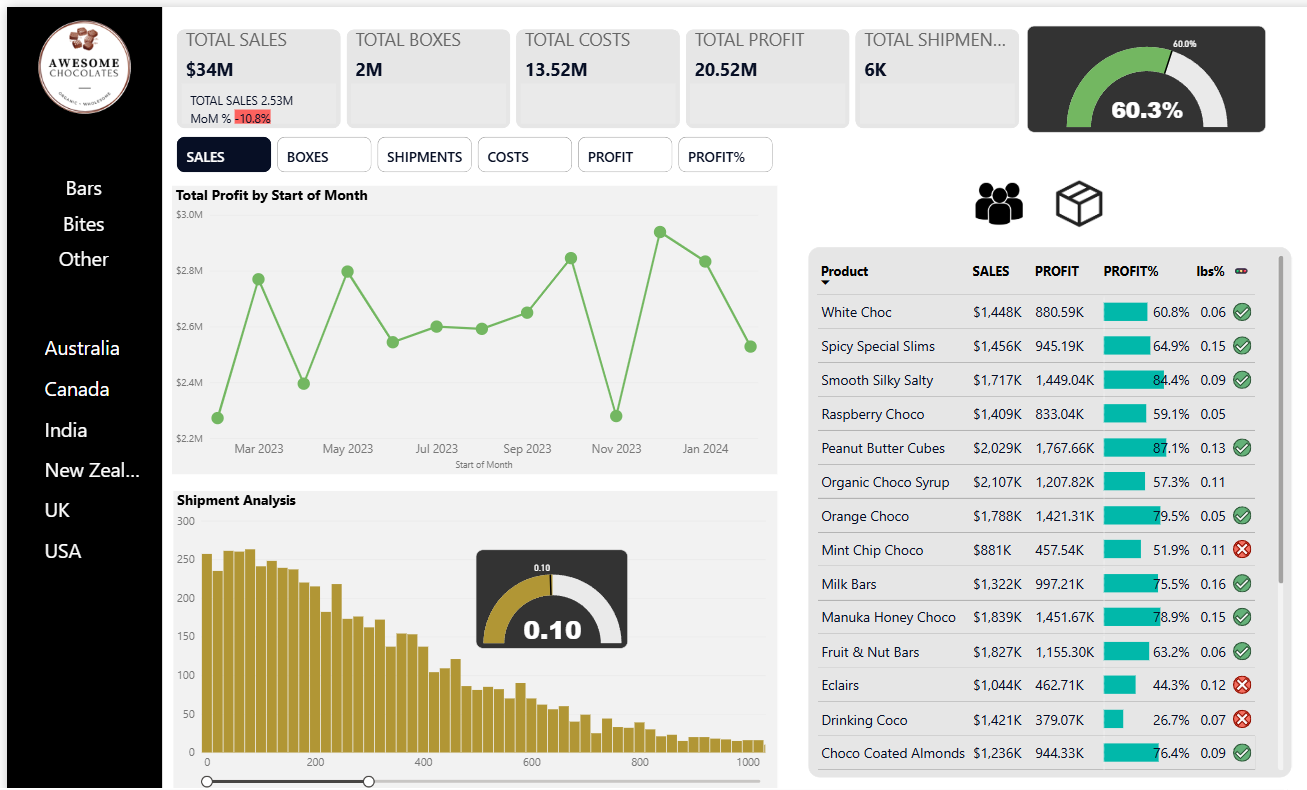

What the dashboard file says about the page in this screenshot:
{"tool":"powerbi","page":{"name":"Sales report","canvas":[1920,1800],"ordinal":0},"visuals":[{"type":"cardVisual","fields":{"Data":["_Measures.TOTAL SALES","_Measures.TOTAL BOXES","_Measures.TOTAL COSTS","_Measures.TOTAL PROFIT","_Measures.TOTAL SHIPMENTS"]},"box":[225.9,25.9,1156.9,144.8],"z":0},{"type":"gauge","fields":{"Y":["_Measures.PROFIT%"]},"box":[1382.8,25.9,324.1,144.8],"z":1000},{"type":"lineChart","title":"Total Profit by Start of Month","fields":{"Y":["_Measures.TOTAL SALES"],"Category":["calendar.Start of Month"]},"box":[224.1,243.1,820.7,391.4],"z":2000},{"type":"advancedSlicerVisual","fields":{"Values":["Measure Selector.Measure Selector"]},"box":[225.9,170.7,819,58.6],"z":3000},{"type":"clusteredColumnChart","title":"Shipment Analysis","fields":{"Category":["shipments.Boxes (bins)"],"Y":["_Measures.TOTAL SHIPMENTS"]},"box":[225.9,655.2,819,405.2],"z":4000},{"type":"gauge","fields":{"Y":["_Measures.lbs%"]},"box":[634.8,734.8,206.5,134.8],"z":5000},{"type":"image","box":[0,0,131.5,137],"z":7000},{"type":"tableEx","title":"product details","fields":{"Values":["products.Product","_Measures.TOTAL SALES","_Measures.TOTAL PROFIT","_Measures.PROFIT%","_Measures.lbs%","_Measures.PROFIT TARGET INDICATOR"]},"box":[1086.2,325.9,655.2,719],"z":8000},{"type":"image","title":"product icon","box":[1413.8,227.6,81,79.3],"z":9000},{"type":"image","title":"people icon","box":[1308.6,229.3,74.1,77.6],"z":10000},{"type":"shape","box":[0,0,210.3,1177.6],"z":11000},{"type":"image","box":[0,13.8,210.3,136.2],"z":12000},{"type":"cardVisual","fields":{"Rows":["shipments.Geography"]},"box":[50,417.2,141.4,372.4],"z":13000},{"type":"cardVisual","fields":{"Rows":["products.Category"]},"box":[17.2,200,174.1,306.9],"z":14000}]}

Visuals, with their boxes on the page's 1920x1800 design canvas (x1, y1, x2, y2). These are canvas units, not pixel positions in the 1307x790 screenshot, which may show the page scaled, cropped or inside an application window:
cardVisual - _Measures.TOTAL SALES x _Measures.TOTAL BOXES: Rect(226, 26, 1383, 171)
gauge - _Measures.PROFIT%: Rect(1383, 26, 1707, 171)
"Total Profit by Start of Month" lineChart: Rect(224, 243, 1045, 634)
advancedSlicerVisual - Measure Selector.Measure Selector: Rect(226, 171, 1045, 229)
"Shipment Analysis" clusteredColumnChart: Rect(226, 655, 1045, 1060)
gauge - _Measures.lbs%: Rect(635, 735, 841, 870)
image: Rect(0, 0, 132, 137)
"product details" tableEx: Rect(1086, 326, 1741, 1045)
"product icon" image: Rect(1414, 228, 1495, 307)
"people icon" image: Rect(1309, 229, 1383, 307)
shape: Rect(0, 0, 210, 1178)
image: Rect(0, 14, 210, 150)
cardVisual - shipments.Geography: Rect(50, 417, 191, 790)
cardVisual - products.Category: Rect(17, 200, 191, 507)
